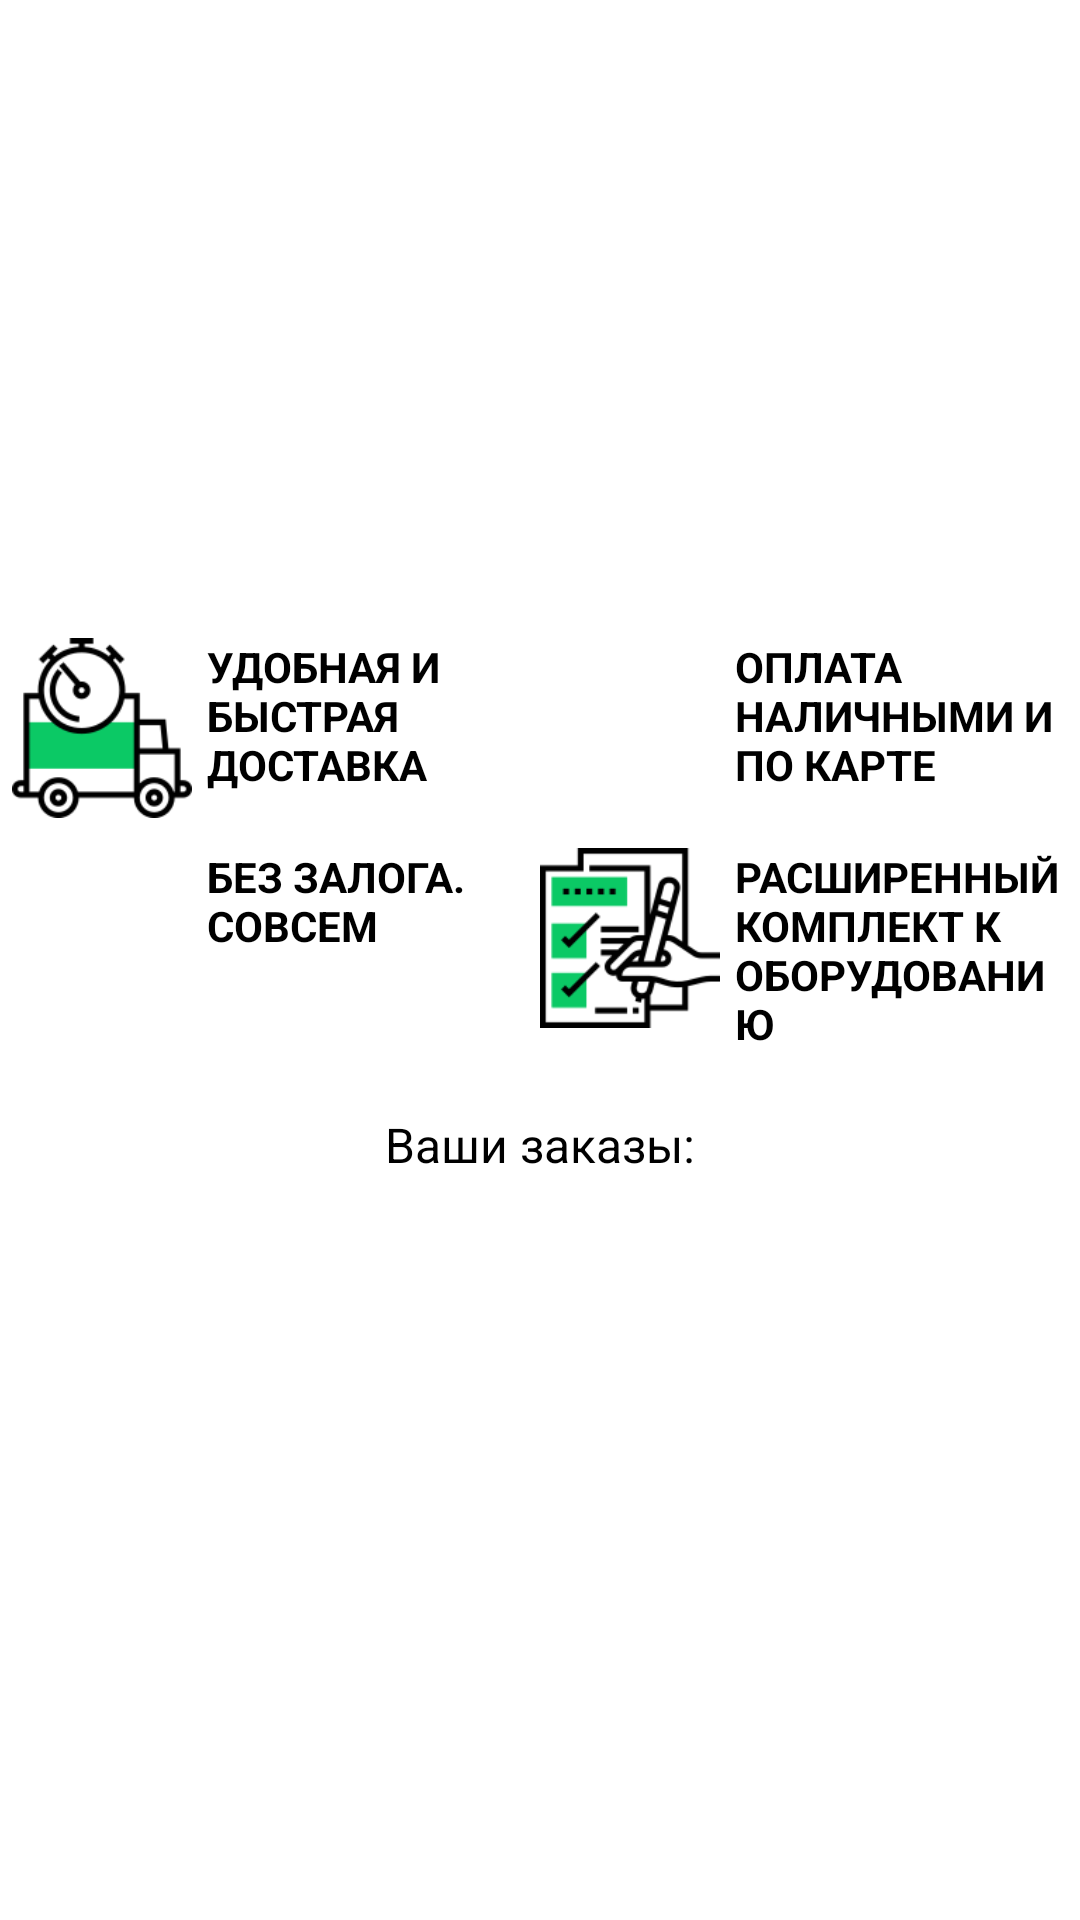

Where icons sit on this 1080*1920 app screen, as rect(x1, y1, x2, y2):
delivery: rect(12, 638, 192, 818)
